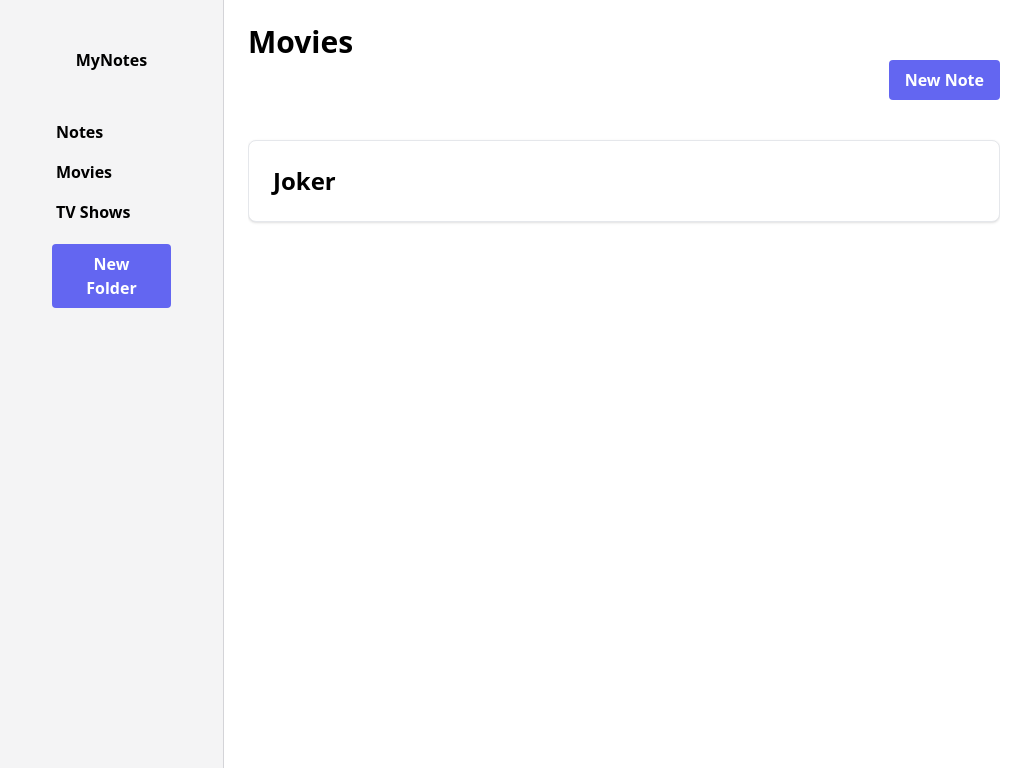
Test: should show the note details, when it is clicked
The image size is (1024, 768).
What coordinates should you click on to do the following:
click the link "Joker"
I would click on:
 (304, 180)
Its box is [248,140,1000,222].
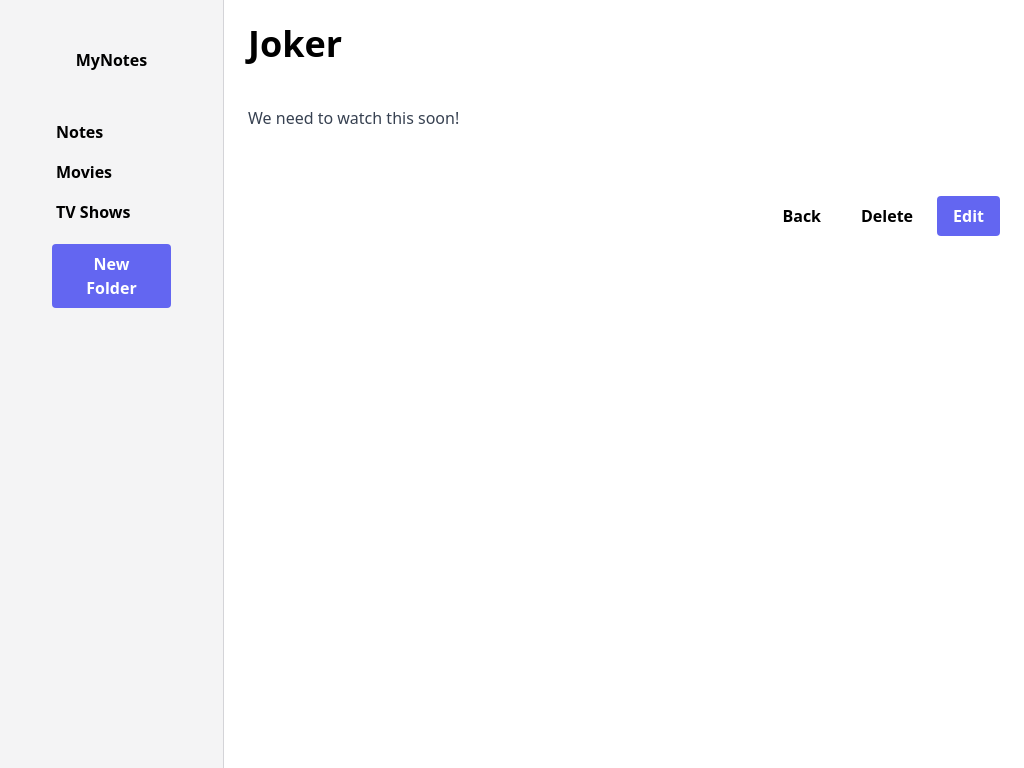
Expected: the heading "Joker" is shown, [248,19,342,68]
Now the text "We need to watch this soon!" is shown, box [248,107,459,129]
